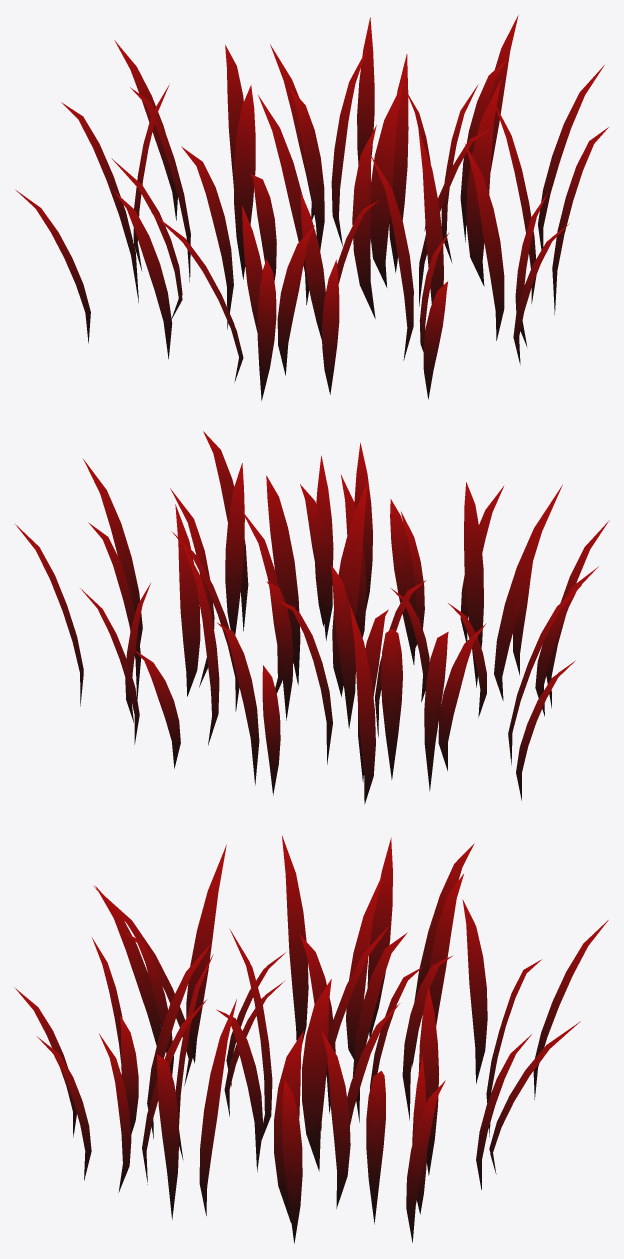
Rendered from grass_reworked.fbx.
The picture shows the model from 3 angles, top to bottom: view 1: azimuth 30°, elevation 25°; view 2: azimuth 150°, elevation 25°; view 3: azimuth 270°, elevation 25°; orthographic projection. The views are drawn at different scales.
Visible parts, largest first — view 1: grass; view 2: grass; view 3: grass.
Boxes of the visible parts, x1,y1,x2,y2 form: grass: (15,15,608,400); grass: (15,431,609,804); grass: (14,835,608,1243).
Bounding box in the file's own units: 3.35 × 1.37 × 3.08.
